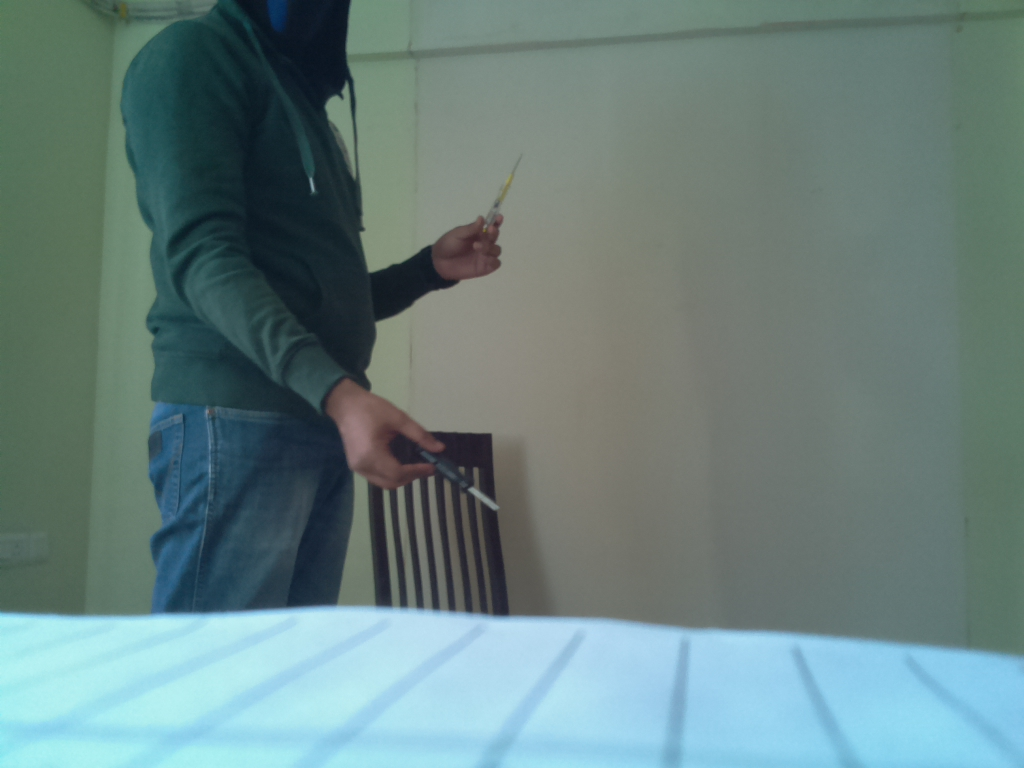none3: (402, 438, 504, 515), (475, 148, 531, 241)
